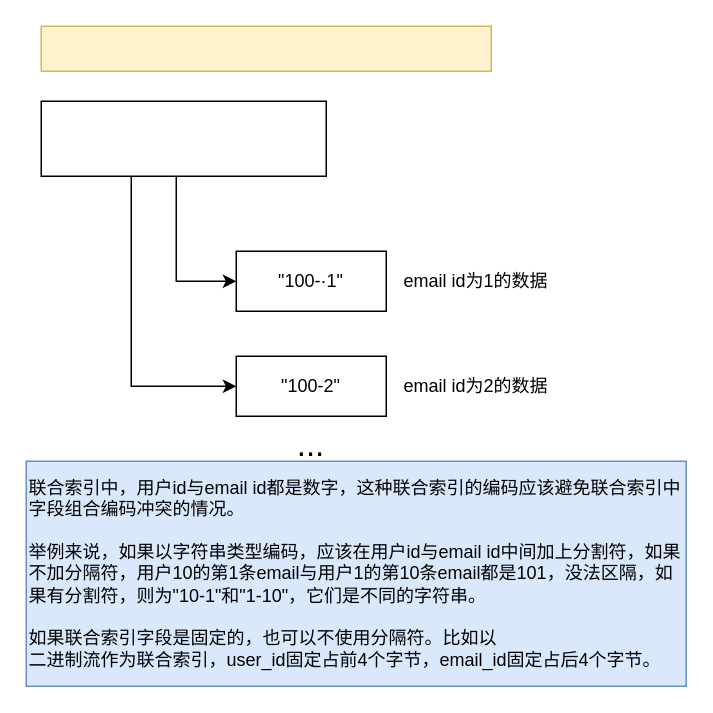
Some shapes in this 713 by 713 pixel diagram are drawn without their labels. The centre of each missing label's shape, as x and y in pixels:
前缀索引key id为100的用户前缀节点 "100-": (x=183, y=138)
用户email表，以用户id和email id作为联合索引的主键。: (x=265, y=48)
